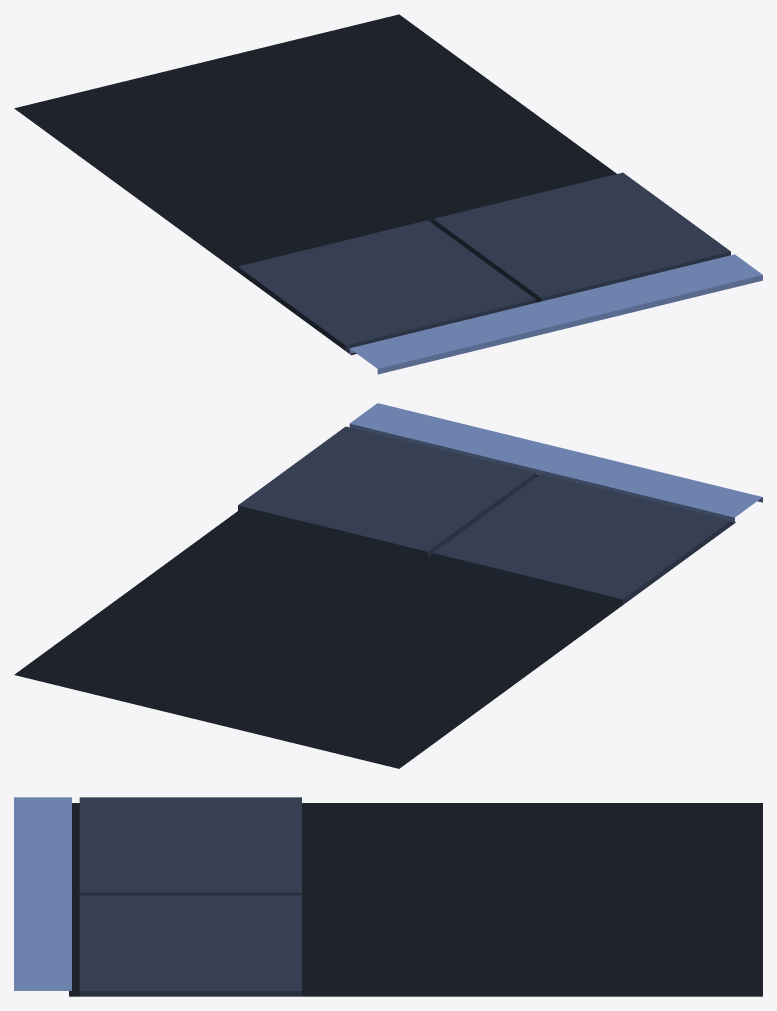
The model's file is sidewalk1.FBX.
3 renders of one model, top to bottom at view 1: azimuth 30°, elevation 25°; view 2: azimuth 150°, elevation 25°; view 3: azimuth 270°, elevation 25°, orthographic. The views are drawn at different scales.
Visible parts, largest first — view 1: sidewalk1; view 2: sidewalk1; view 3: sidewalk1.
Boxes of the visible parts, x1,y1,x2,y2 form: sidewalk1: (14, 14, 762, 374); sidewalk1: (14, 403, 762, 768); sidewalk1: (14, 797, 762, 996).
Size of the model in its own units: 15.32 by 0.216 by 25.04.
